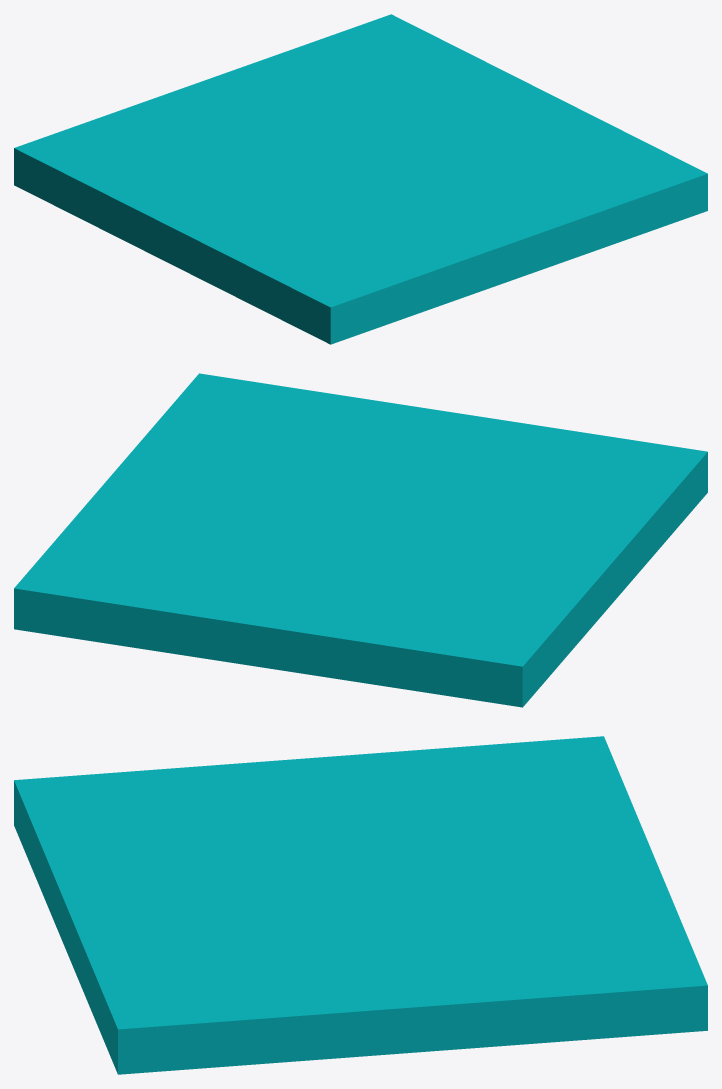
The model's file is 1x1_platform.fbx.
3 renders of one model, top to bottom at view 1: azimuth 30°, elevation 25°; view 2: azimuth 150°, elevation 25°; view 3: azimuth 270°, elevation 25°, orthographic. The views are drawn at different scales.
Visible parts, largest first — view 1: BP_1x1; view 2: BP_1x1; view 3: BP_1x1.
Part boxes in pixels (x1=…): BP_1x1: x1=14, y1=14, x2=707, y2=344; BP_1x1: x1=14, y1=373, x2=707, y2=707; BP_1x1: x1=14, y1=736, x2=707, y2=1074.
Bounding box in the file's own units: 348 × 348 × 25.
